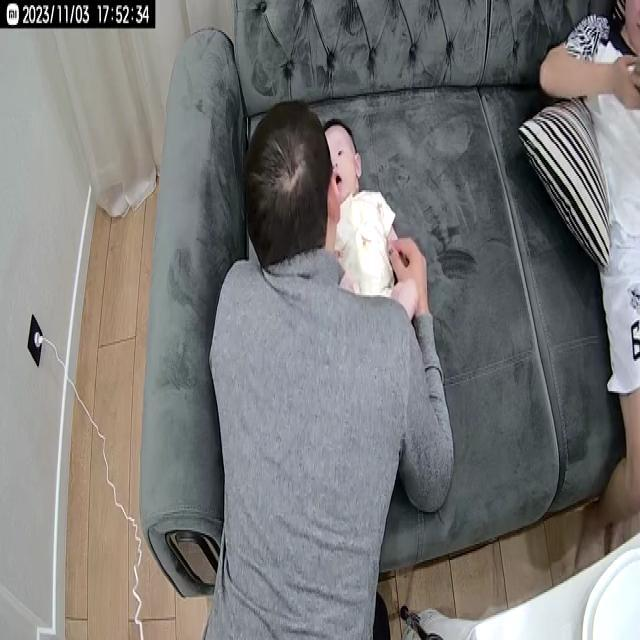baby: (320, 117, 420, 325)
